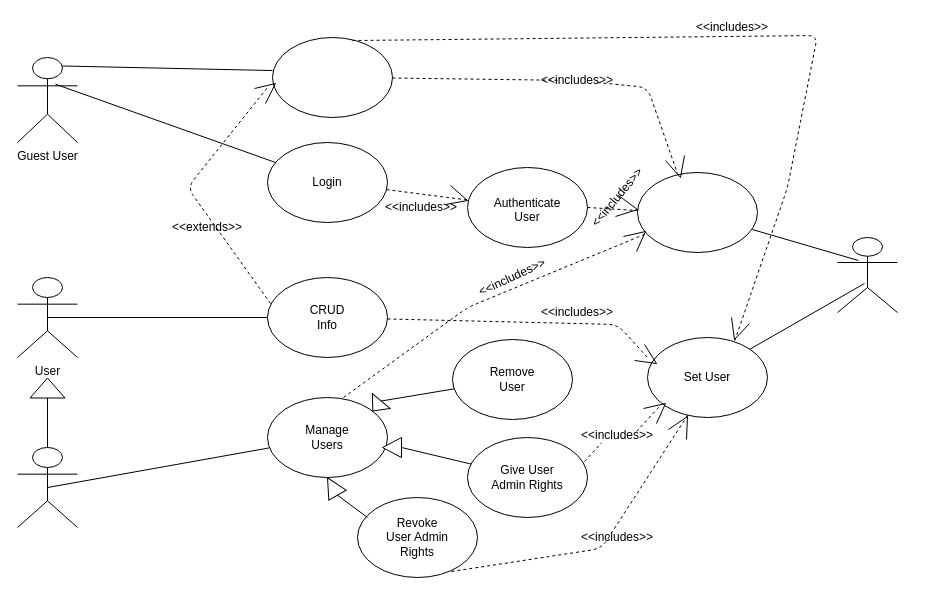
Image size: 925x595. Some labels were removed from this diagram. The shapes that lost their labels are listed below. From the top down, each one's box as (x1, y1, x2, y2) in pixels, then its label:
(272, 36, 392, 118): Register User
(636, 172, 758, 252): Get User
(836, 236, 898, 312): <<database>> System
(16, 446, 78, 528): Admin
